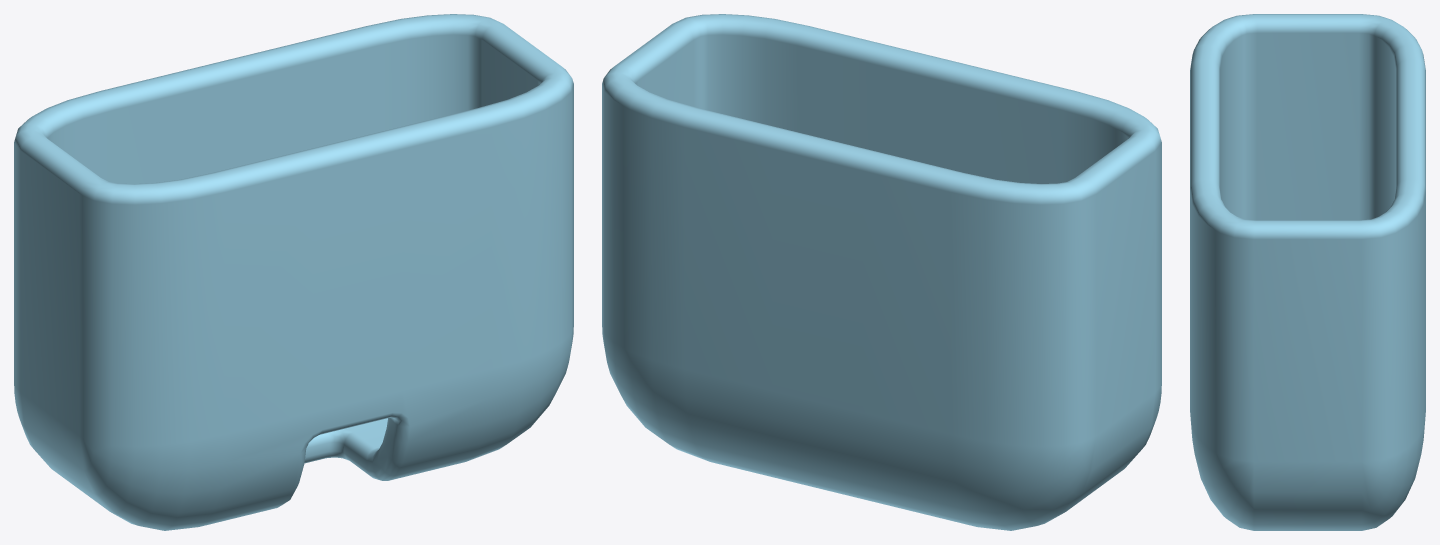
Rendered from hazne 1.fbx.
The picture shows the model from 3 angles, left to right: view 1: azimuth 30°, elevation 25°; view 2: azimuth 150°, elevation 25°; view 3: azimuth 270°, elevation 25°; orthographic projection. The views are drawn at different scales.
Parts seen in each view (by area): view 1: hazne.002; view 2: hazne.002; view 3: hazne.002.
Boxes of the visible parts, left/top/right/bottom form: hazne.002: left=14, top=14, right=573, bottom=530; hazne.002: left=602, top=14, right=1161, bottom=530; hazne.002: left=1190, top=14, right=1425, bottom=530.
Bounding box in the file's own units: 0.9729 × 0.7022 × 0.4428.
